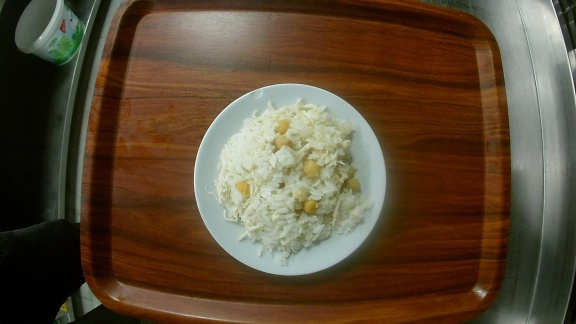nohutlupilav: (193, 83, 389, 275)
